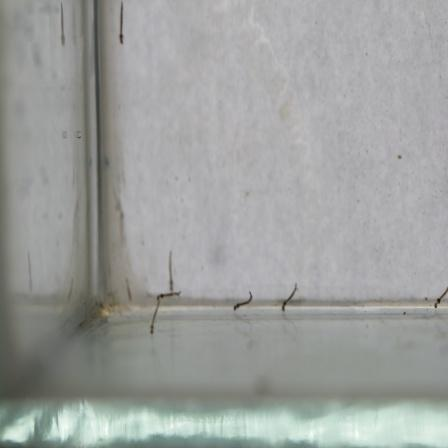Jentik-Nyamuk: (147, 250, 182, 338), (114, 0, 131, 47), (279, 282, 302, 313), (230, 288, 255, 314), (432, 284, 448, 311)
